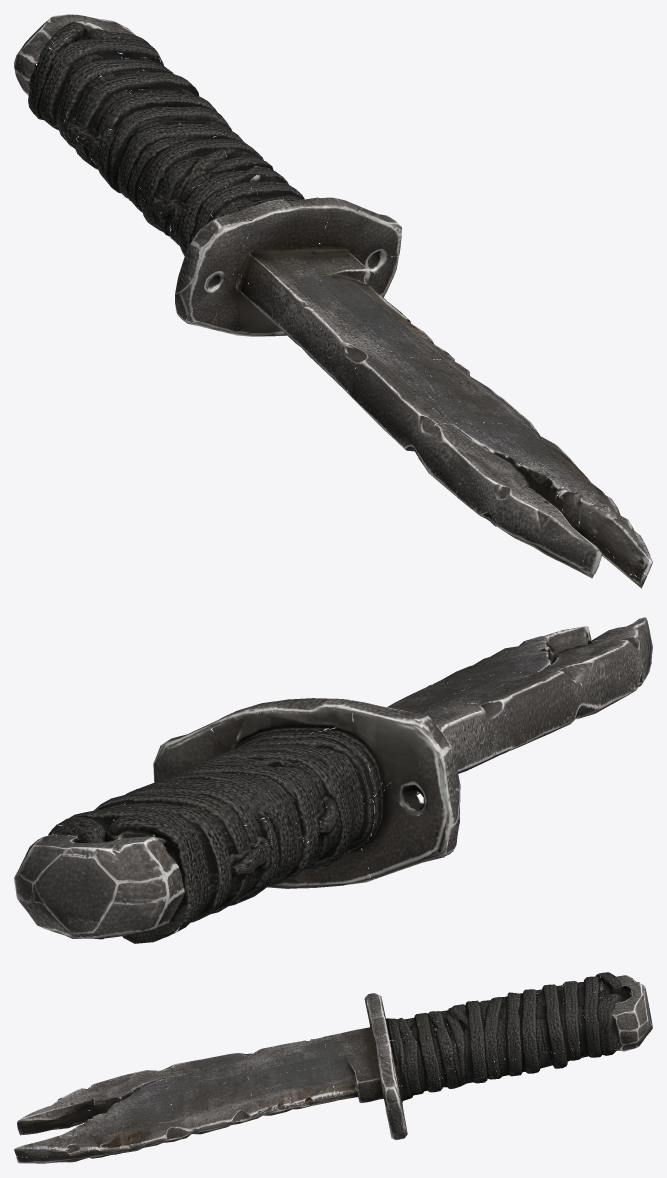
The model's file is w_ryu_shiv.glb.
3 views of the same model, one above another, from view 1: azimuth 30°, elevation 25°; view 2: azimuth 150°, elevation 25°; view 3: azimuth 270°, elevation 25° (orthographic). The views are drawn at different scales.
Parts seen in each view (by area): view 1: tripo_node_50e54c1f-63ac-4bd1-8d1f-93ce150daeae; view 2: tripo_node_50e54c1f-63ac-4bd1-8d1f-93ce150daeae; view 3: tripo_node_50e54c1f-63ac-4bd1-8d1f-93ce150daeae.
Boxes of the visible parts, x1,y1,x2,y2 form: tripo_node_50e54c1f-63ac-4bd1-8d1f-93ce150daeae: (14, 14, 652, 588); tripo_node_50e54c1f-63ac-4bd1-8d1f-93ce150daeae: (14, 617, 652, 943); tripo_node_50e54c1f-63ac-4bd1-8d1f-93ce150daeae: (14, 972, 652, 1163).
Bounding box in the file's own units: 0.2597 × 0.263 × 0.9801.
1 material, 1 textured.
